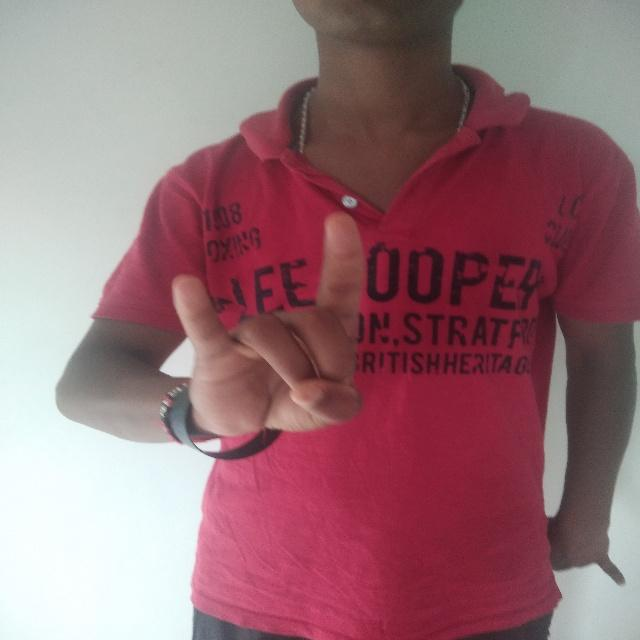Corna: (164, 203, 369, 471)
